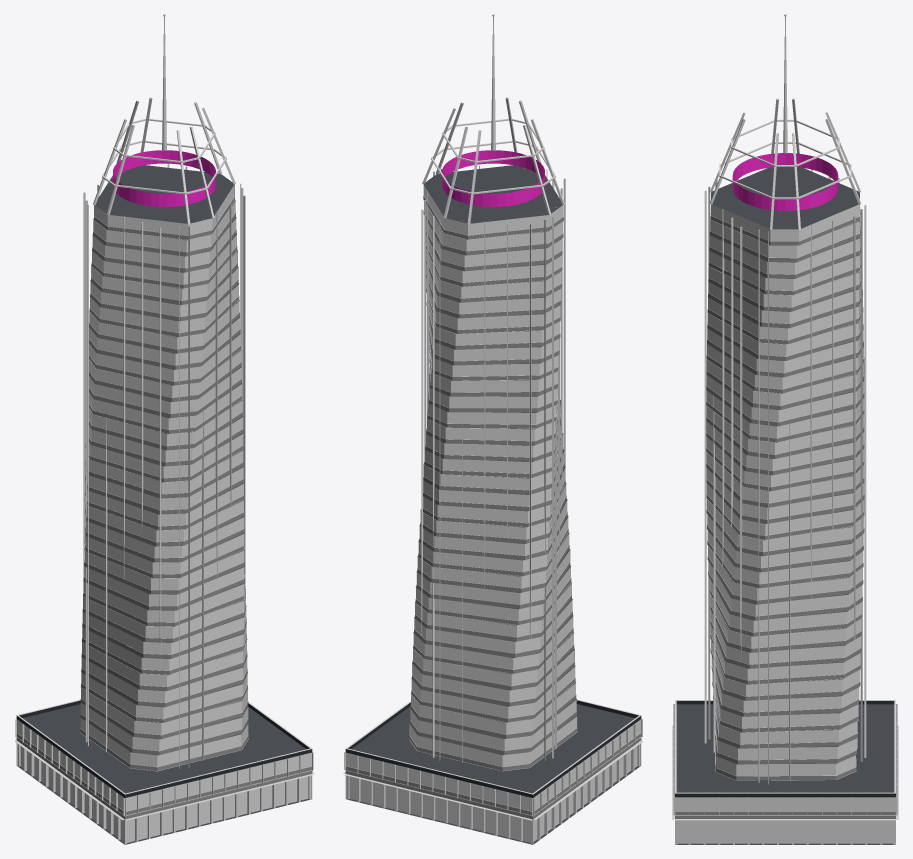
File: LM_AG_MeridianSpire.fbx
3 renders of one model, left to right at view 1: azimuth 30°, elevation 25°; view 2: azimuth 150°, elevation 25°; view 3: azimuth 270°, elevation 25°, orthographic. The views are drawn at different scales.
Visible parts, largest first — view 1: LM_AG_MeridianSpire_LOD0; view 2: LM_AG_MeridianSpire_LOD0; view 3: LM_AG_MeridianSpire_LOD0.
Boxes of the visible parts, x1,y1,x2,y2 form: LM_AG_MeridianSpire_LOD0: [14, 14, 314, 844]; LM_AG_MeridianSpire_LOD0: [343, 14, 643, 844]; LM_AG_MeridianSpire_LOD0: [672, 14, 898, 844].
Size of what is drawn, in the model's own units: 45.2 by 172 by 45.2.
